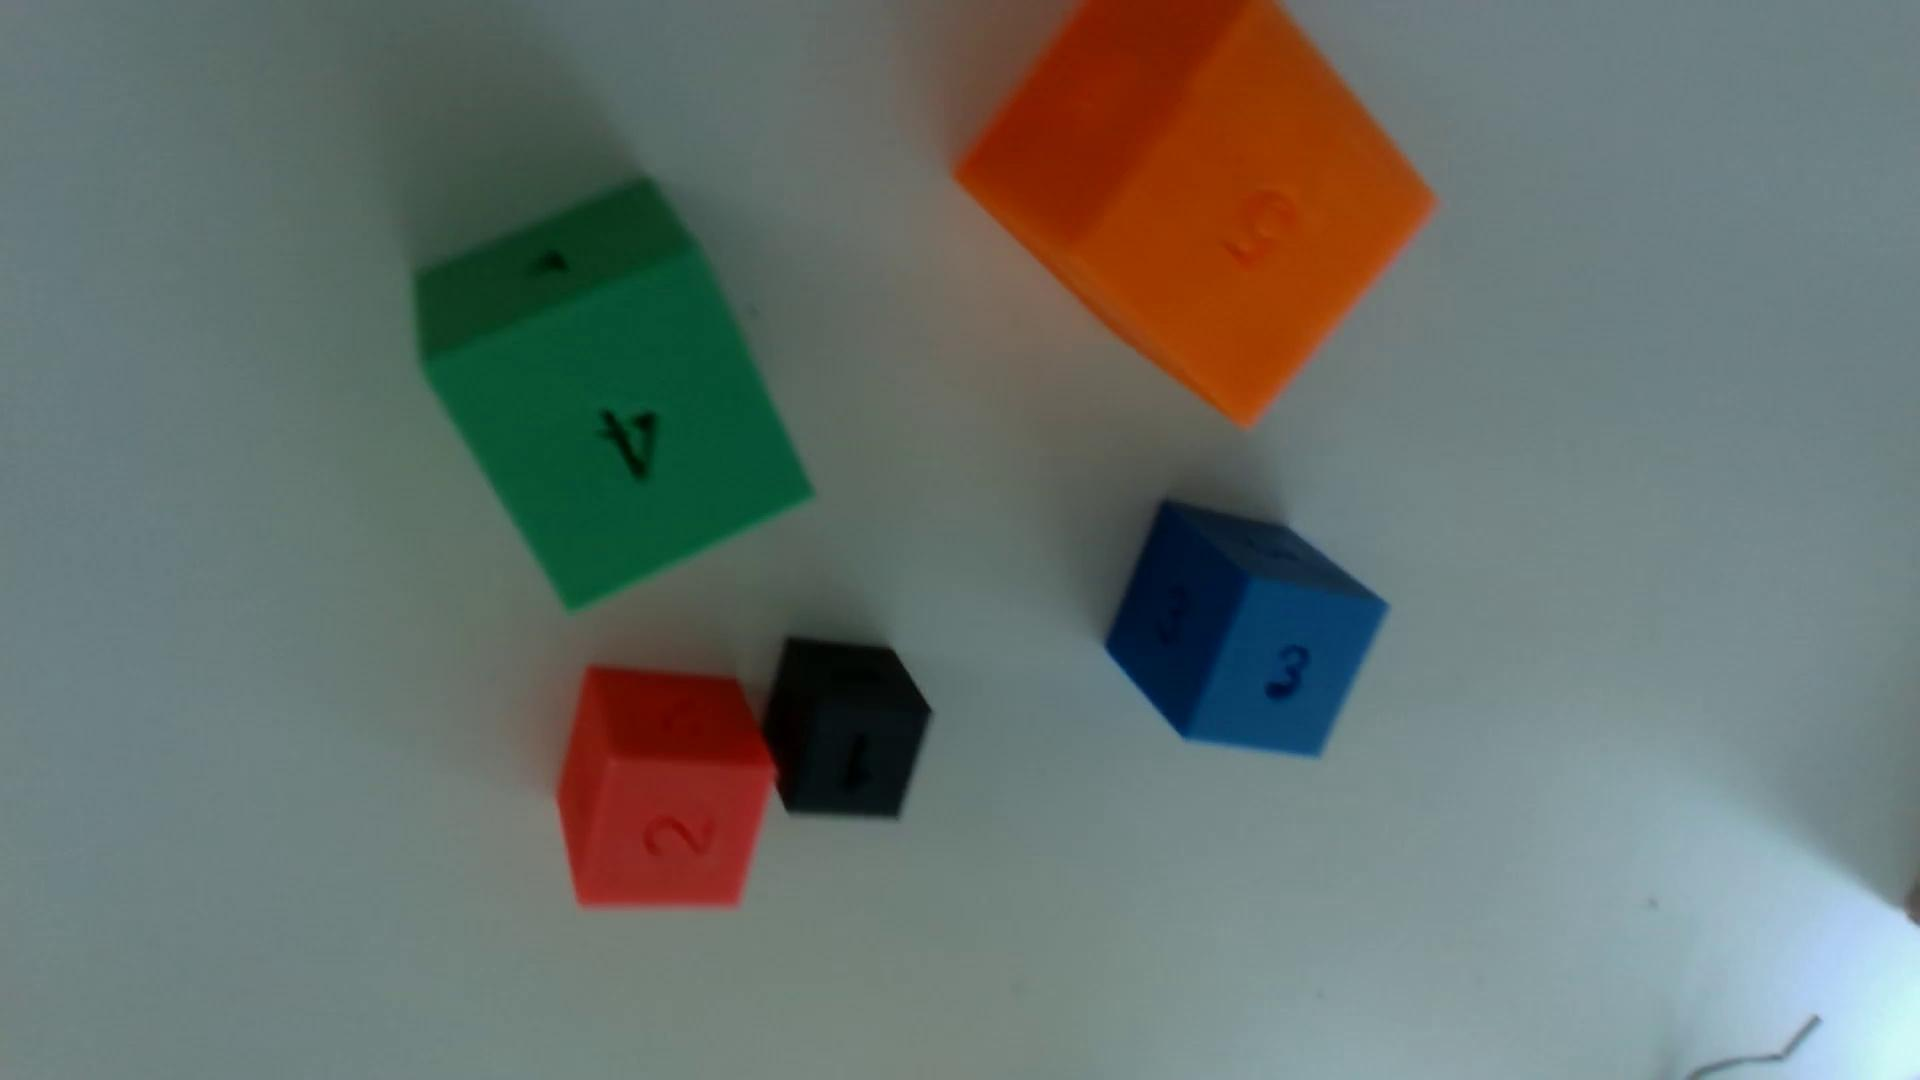black: (764, 636, 934, 819)
blue: (1106, 500, 1387, 756)
green: (415, 182, 812, 609)
orange: (957, 0, 1435, 425)
red: (556, 666, 775, 907)
